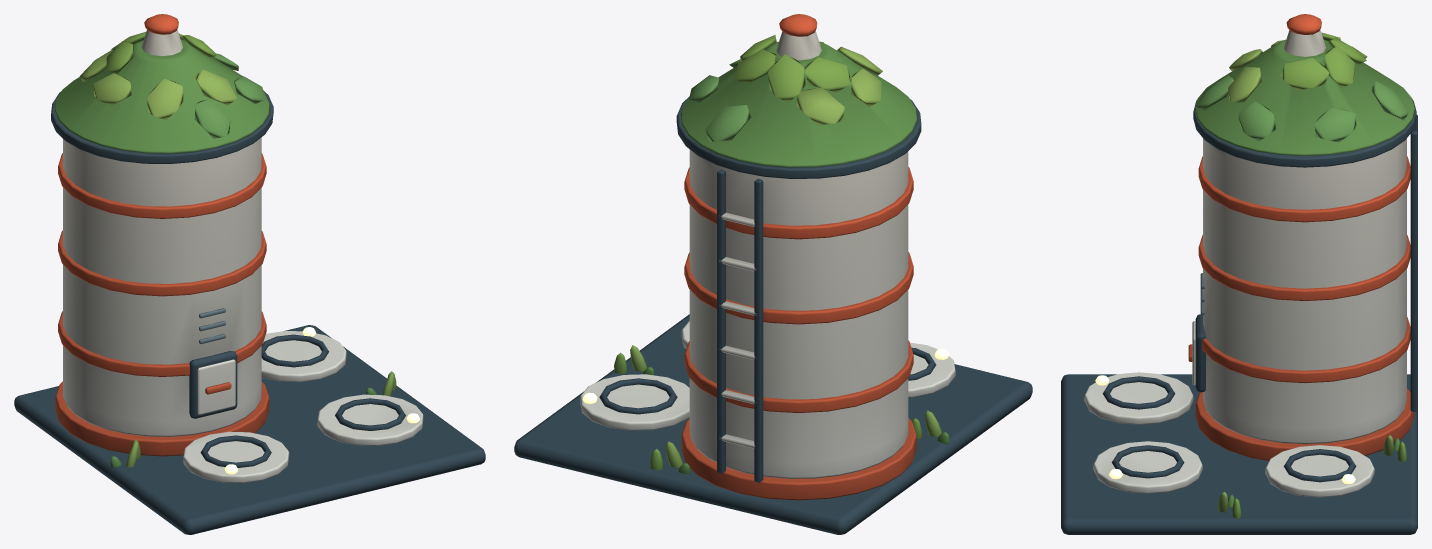
The model's file is silo.glb.
3 renders of one model, left to right at view 1: azimuth 30°, elevation 25°; view 2: azimuth 150°, elevation 25°; view 3: azimuth 270°, elevation 25°, orthographic. The views are drawn at different scales.
Parts seen in each view (by area): view 1: Silo_ceramic_bin, Silo_stone_apron, Silo_moss_roof, Silo_copper_footing, Silo_pad_disc.001, Silo_pad_disc, Silo_pad_disc.002, Silo_copper_hoop.001, Silo_copper_hoop.002, Silo_roof_eave, Silo_copper_hoop, Silo_hatch_enamel (+12 smaller); view 2: Silo_ceramic_bin, Silo_stone_apron, Silo_moss_roof, Silo_copper_footing, Silo_pad_disc.002, Silo_roof_eave, Silo_copper_hoop.002, Silo_copper_hoop.001, Silo_copper_hoop, Silo_ladder_rail, Silo_ladder_rail.001, Silo_pad_disc.001 (+9 smaller); view 3: Silo_ceramic_bin, Silo_stone_apron, Silo_moss_roof, Silo_pad_disc.001, Silo_pad_disc, Silo_pad_disc.002, Silo_copper_footing, Silo_copper_hoop.002, Silo_copper_hoop.001, Silo_copper_hoop, Silo_roof_eave, Silo_ladder_rail.001 (+13 smaller).
Part boxes in pixels (x1,y1,x2,y2): Silo_ceramic_bin: (63, 137, 261, 436); Silo_stone_apron: (14, 325, 485, 534); Silo_moss_roof: (54, 39, 269, 153); Silo_copper_footing: (55, 381, 269, 456); Silo_pad_disc.001: (183, 431, 289, 482); Silo_pad_disc: (317, 394, 423, 445); Silo_pad_disc.002: (261, 331, 346, 382); Silo_copper_hoop.001: (58, 230, 266, 296); Silo_copper_hoop.002: (58, 153, 266, 218); Silo_roof_eave: (51, 90, 273, 163); Silo_copper_hoop: (58, 311, 266, 376); Silo_hatch_enamel: (197, 359, 235, 414); Silo_ceramic_bin: (689, 149, 908, 478); Silo_stone_apron: (514, 314, 1032, 534); Silo_moss_roof: (680, 41, 917, 167); Silo_copper_footing: (681, 418, 916, 500); Silo_pad_disc.002: (580, 374, 689, 430); Silo_roof_eave: (676, 96, 921, 178); Silo_copper_hoop.002: (684, 167, 913, 239); Silo_copper_hoop.001: (684, 252, 913, 324); Silo_copper_hoop: (684, 340, 913, 412); Silo_ladder_rail: (754, 179, 763, 482); Silo_ladder_rail.001: (717, 169, 725, 473); Silo_pad_disc.001: (908, 342, 955, 397); Silo_ceramic_bin: (1203, 138, 1406, 443); Silo_stone_apron: (1061, 374, 1417, 534); Silo_moss_roof: (1194, 39, 1415, 155); Silo_pad_disc.001: (1084, 372, 1193, 424); Silo_pad_disc: (1093, 441, 1202, 493); Silo_pad_disc.002: (1265, 445, 1374, 497); Silo_copper_footing: (1195, 388, 1414, 460); Silo_copper_hoop.002: (1198, 156, 1410, 222); Silo_copper_hoop.001: (1198, 235, 1410, 300); Silo_copper_hoop: (1202, 317, 1410, 383); Silo_roof_eave: (1193, 100, 1416, 167); Silo_ladder_rail.001: (1410, 131, 1417, 411).
Size of the model in its own units: 1.97 by 2.55 by 1.97.
